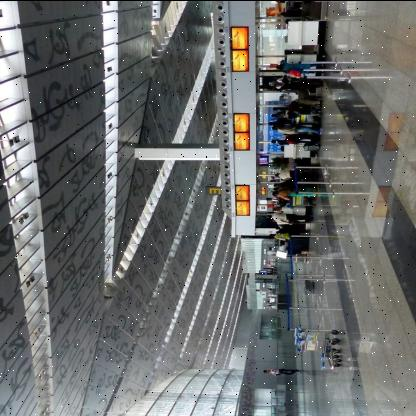airport-trolley: (294, 322, 344, 375)
